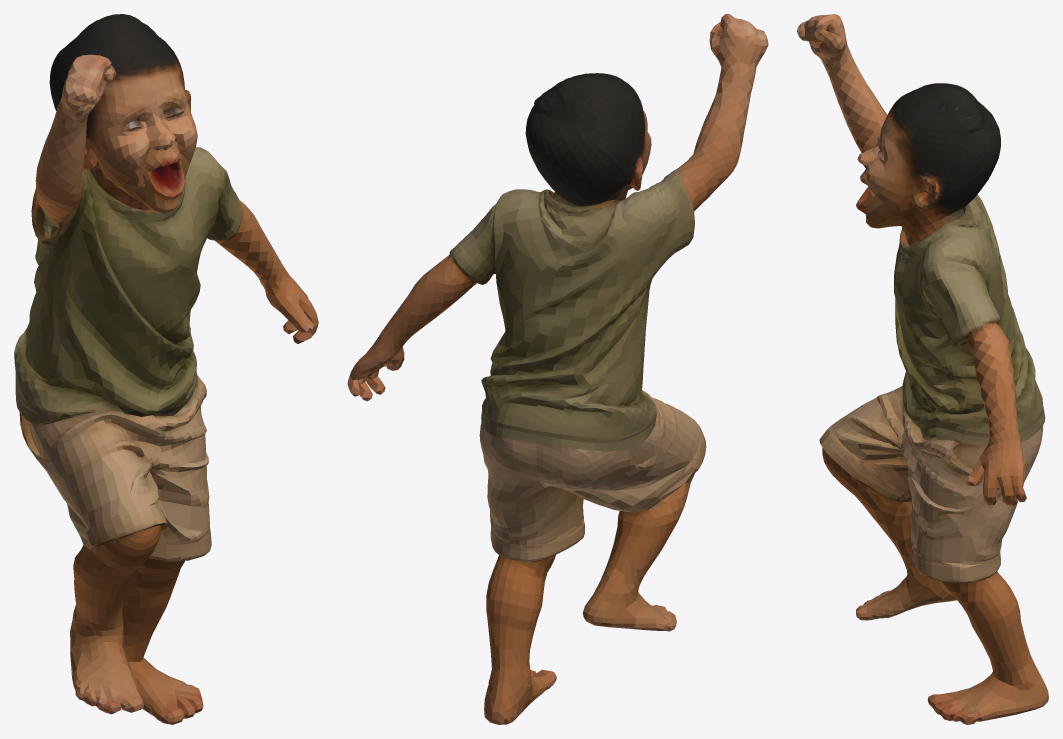
3 renders of one model, left to right at view 1: azimuth 30°, elevation 25°; view 2: azimuth 150°, elevation 25°; view 3: azimuth 270°, elevation 25°, orthographic. The views are drawn at different scales.
Visible parts, largest first — view 1: texture_pbr_v128; view 2: texture_pbr_v128; view 3: texture_pbr_v128.
Part boxes in pixels (x1,y1,x2,y2): texture_pbr_v128: [14, 14, 318, 724]; texture_pbr_v128: [347, 14, 768, 724]; texture_pbr_v128: [797, 14, 1048, 724].
Bounding box in the file's own units: 0.5365 × 1.07 × 0.3875.
1 material, 1 textured.
